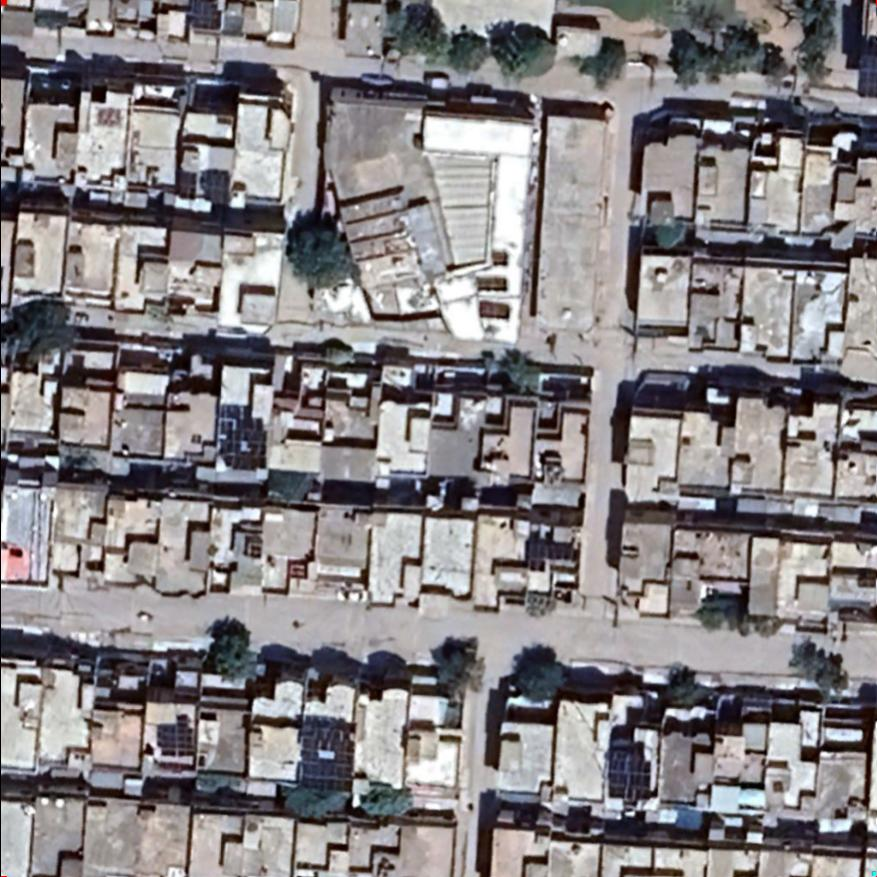Solarpanel: (295, 722, 356, 798), (605, 743, 655, 801), (228, 426, 268, 472), (525, 537, 575, 573), (154, 723, 200, 758), (205, 167, 232, 210), (175, 168, 194, 200)
